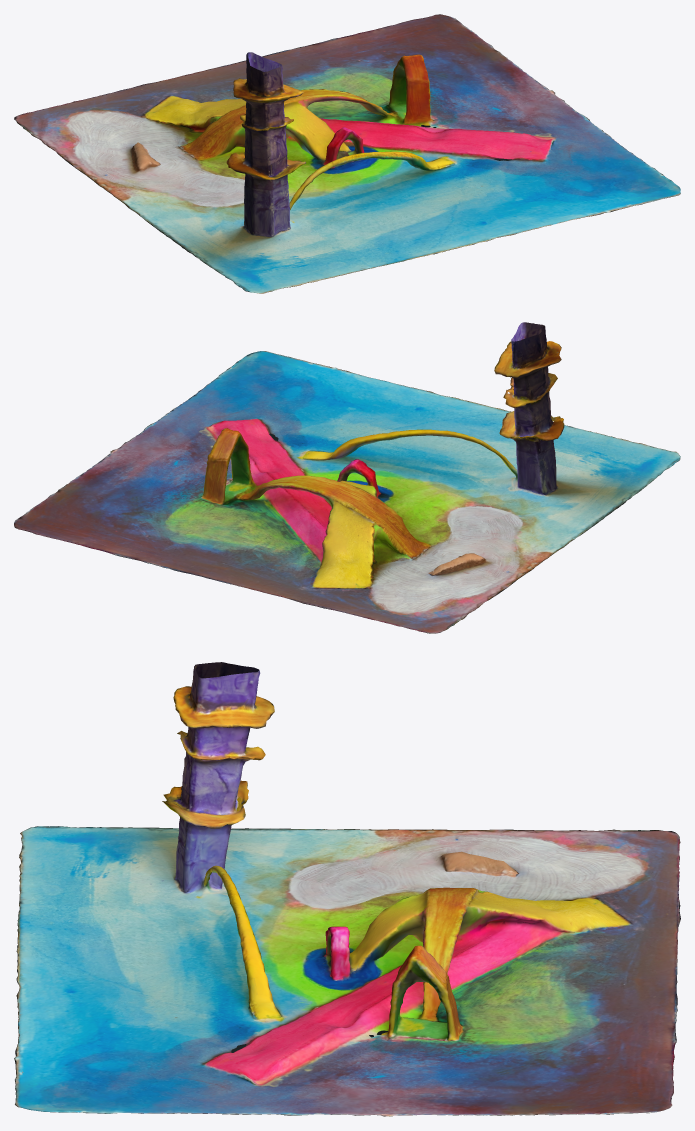
Rendered from TurmBruecke_01.fbx.
3 renders of one model, top to bottom at view 1: azimuth 30°, elevation 25°; view 2: azimuth 150°, elevation 25°; view 3: azimuth 270°, elevation 25°, orthographic. The views are drawn at different scales.
Visible parts, largest first — view 1: 3DModel; view 2: 3DModel; view 3: 3DModel.
Part boxes in pixels (x1=…): 3DModel: x1=14, y1=14, x2=680, y2=293; 3DModel: x1=14, y1=322, x2=680, y2=633; 3DModel: x1=14, y1=662, x2=680, y2=1116.
Size of the model in its own units: 40628 by 14329 by 39819.
1 material, 1 textured.
